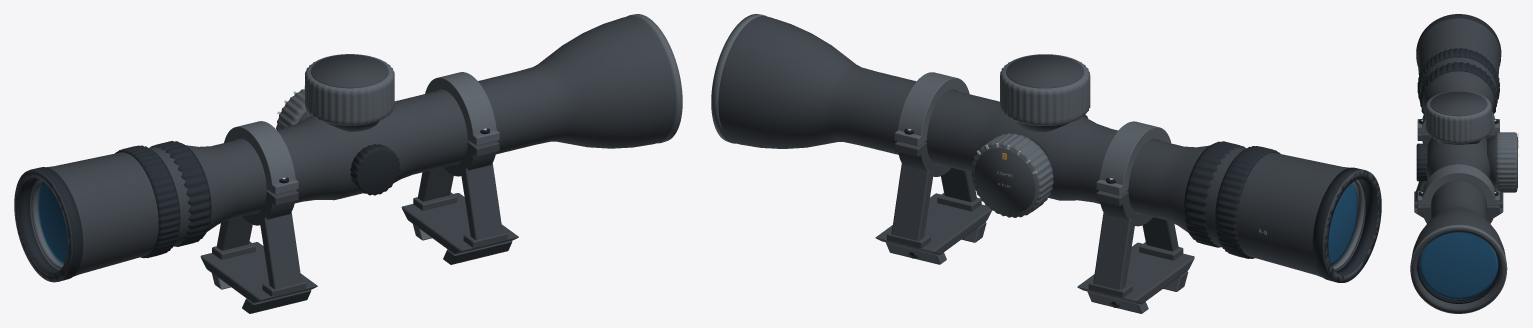
File: R8_8x_Scope_Legacy_K1_Rail_Top.fbx
3 renders of one model, left to right at view 1: azimuth 30°, elevation 25°; view 2: azimuth 150°, elevation 25°; view 3: azimuth 270°, elevation 25°, orthographic. The views are drawn at different scales.
Visible parts, largest first — view 1: 01 SHELL | curved objective and long rear neck, 11 TOP CAP RIM, 05 REAR LIP | dark scallop, 09 REAR COLLAR B | fine grooves, 25.1 LOCAL CROWN | independent seat, 25.0 LOCAL CROWN | independent seat, 08 REAR COLLAR A | wide shallow grooves, 23.0.-1 SUPPORT ARM, 23.1.-1 SUPPORT ARM, 17.0 RING UPPER, 17.1 RING UPPER, 12 TOP CAP FACE (+11 smaller); view 2: 01 SHELL | curved objective and long rear neck, 11 TOP CAP RIM, 05 REAR LIP | dark scallop, 15 RIGHT CAP FACE, 09 REAR COLLAR B | fine grooves, 25.1 LOCAL CROWN | independent seat, 25.0 LOCAL CROWN | independent seat, 08 REAR COLLAR A | wide shallow grooves, 23.0.1 SUPPORT ARM, 23.1.1 SUPPORT ARM, 14 RIGHT CAP RIM, 17.0 RING UPPER (+11 smaller); view 3: 01 SHELL | curved objective and long rear neck, 04 FRONT PANE | deep blue coat, 11 TOP CAP RIM, 17.0 RING UPPER, 14 RIGHT CAP RIM, 12 TOP CAP FACE, 09 REAR COLLAR B | fine grooves, 08 REAR COLLAR A | wide shallow grooves, 02 FRONT LIP | fine rim, 03 FRONT INNER | matte rim, 05 REAR LIP | dark scallop, 16 LEFT SMALL CAP (+7 smaller).
Boxes of the visible parts, left/top/right/bottom form: 01 SHELL | curved objective and long rear neck: left=14, top=16, right=675, bottom=282; 11 TOP CAP RIM: left=305, top=54, right=394, bottom=125; 05 REAR LIP | dark scallop: left=14, top=167, right=83, bottom=281; 09 REAR COLLAR B | fine grooves: left=115, top=145, right=180, bottom=258; 25.1 LOCAL CROWN | independent seat: left=200, top=242, right=317, bottom=303; 25.0 LOCAL CROWN | independent seat: left=401, top=193, right=518, bottom=254; 08 REAR COLLAR A | wide shallow grooves: left=150, top=141, right=211, bottom=246; 23.0.-1 SUPPORT ARM: left=461, top=163, right=502, bottom=240; 23.1.-1 SUPPORT ARM: left=260, top=212, right=301, bottom=289; 17.0 RING UPPER: left=425, top=72, right=496, bottom=143; 17.1 RING UPPER: left=224, top=121, right=295, bottom=193; 12 TOP CAP FACE: left=311, top=54, right=388, bottom=88; 01 SHELL | curved objective and long rear neck: left=718, top=16, right=1381, bottom=282; 11 TOP CAP RIM: left=1000, top=54, right=1090, bottom=125; 05 REAR LIP | dark scallop: left=1312, top=167, right=1381, bottom=282; 15 RIGHT CAP FACE: left=974, top=148, right=1035, bottom=213; 09 REAR COLLAR B | fine grooves: left=1215, top=146, right=1280, bottom=258; 25.1 LOCAL CROWN | independent seat: left=1077, top=242, right=1194, bottom=304; 25.0 LOCAL CROWN | independent seat: left=875, top=193, right=991, bottom=255; 08 REAR COLLAR A | wide shallow grooves: left=1184, top=141, right=1245, bottom=247; 23.0.1 SUPPORT ARM: left=891, top=164, right=933, bottom=240; 23.1.1 SUPPORT ARM: left=1093, top=213, right=1134, bottom=290; 14 RIGHT CAP RIM: left=971, top=133, right=1053, bottom=217; 17.0 RING UPPER: left=897, top=72, right=969, bottom=144; 01 SHELL | curved objective and long rear neck: left=1411, top=14, right=1505, bottom=312; 04 FRONT PANE | deep blue coat: left=1419, top=232, right=1498, bottom=299; 11 TOP CAP RIM: left=1425, top=91, right=1491, bottom=143; 17.0 RING UPPER: left=1422, top=164, right=1495, bottom=205; 14 RIGHT CAP RIM: left=1495, top=132, right=1517, bottom=192; 12 TOP CAP FACE: left=1430, top=91, right=1487, bottom=116; 09 REAR COLLAR B | fine grooves: left=1417, top=48, right=1499, bottom=103; 08 REAR COLLAR A | wide shallow grooves: left=1420, top=62, right=1496, bottom=113; 02 FRONT LIP | fine rim: left=1410, top=224, right=1507, bottom=313; 03 FRONT INNER | matte rim: left=1417, top=252, right=1500, bottom=303; 05 REAR LIP | dark scallop: left=1416, top=14, right=1501, bottom=66; 16 LEFT SMALL CAP: left=1416, top=143, right=1427, bottom=181.
Size of the model in its own units: 38.72 by 12.2 by 8.13.
